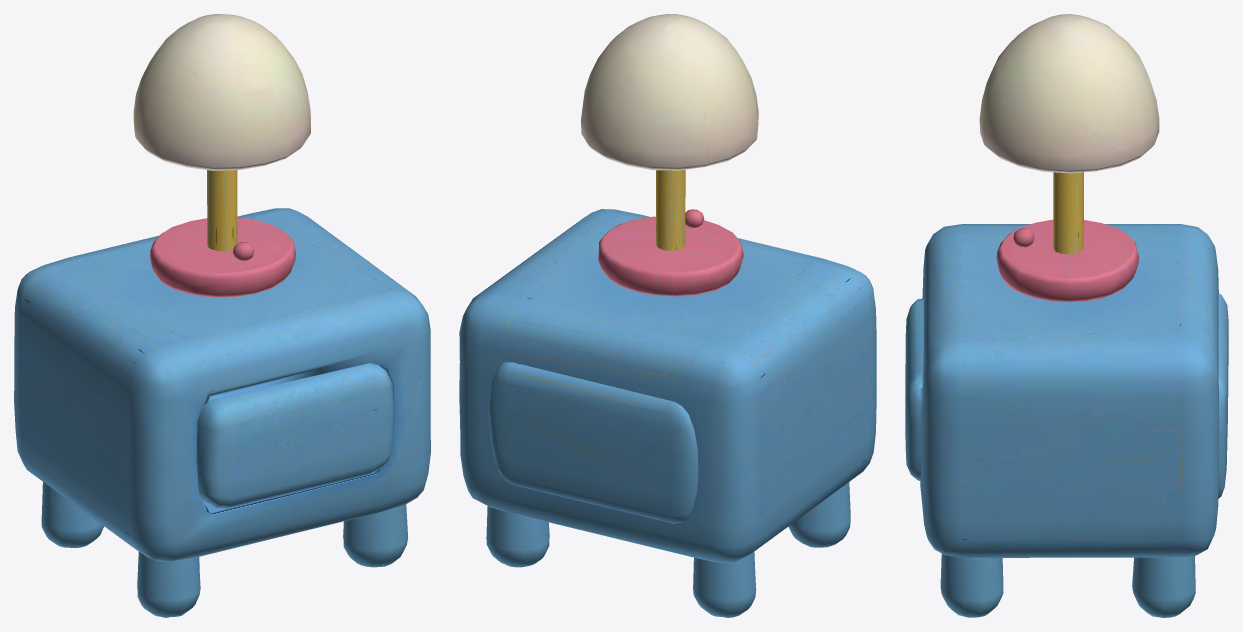
File: nightstand.glb
3 renders of one model, left to right at view 1: azimuth 30°, elevation 25°; view 2: azimuth 150°, elevation 25°; view 3: azimuth 270°, elevation 25°, orthographic.
Parts seen in each view (by area): view 1: geometry_0; view 2: geometry_0; view 3: geometry_0.
Part boxes in pixels (x1,y1,x2,y2): geometry_0: (14,14,430,617); geometry_0: (459,14,876,617); geometry_0: (905,14,1228,617).
Size of the model in its own units: 0.5821 by 1 by 0.545.
1 material, 1 textured.
